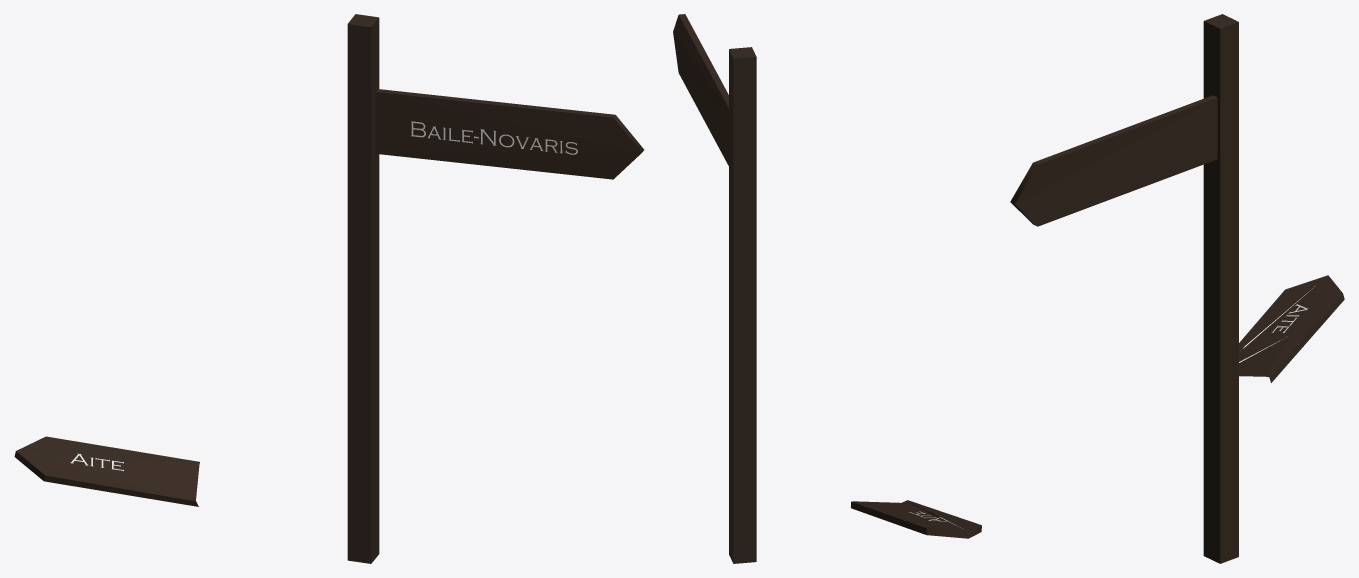
File: Pointer.glb
3 renders of one model, left to right at view 1: azimuth 30°, elevation 25°; view 2: azimuth 150°, elevation 25°; view 3: azimuth 270°, elevation 25°, orthographic. The views are drawn at different scales.
Visible parts, largest first — view 1: +Pointer; view 2: +Pointer; view 3: +Pointer.
Part boxes in pixels (box(x1,y1,x2,y2)): +Pointer: box(14, 14, 644, 563); +Pointer: box(673, 14, 981, 563); +Pointer: box(1010, 14, 1344, 563).
Bounding box in the file's own units: 0.8939 × 0.971 × 0.5503.
